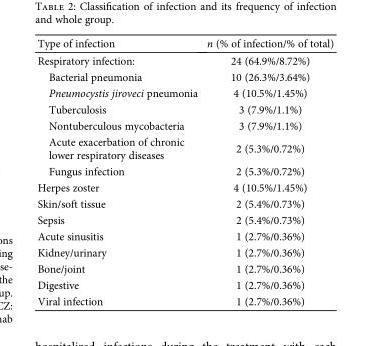table: (36, 36, 332, 307)
table column: (36, 36, 201, 307), (201, 36, 332, 307)
table column header: (36, 36, 332, 51)
table row: (36, 133, 332, 162), (36, 51, 332, 68), (36, 100, 332, 117), (36, 178, 332, 195), (36, 243, 332, 260), (36, 68, 332, 84), (36, 84, 332, 100), (36, 117, 332, 133), (36, 162, 332, 178), (36, 195, 332, 211), (36, 211, 332, 227), (36, 227, 332, 243), (36, 260, 332, 276), (36, 276, 332, 292), (36, 36, 332, 51), (36, 292, 332, 307)
